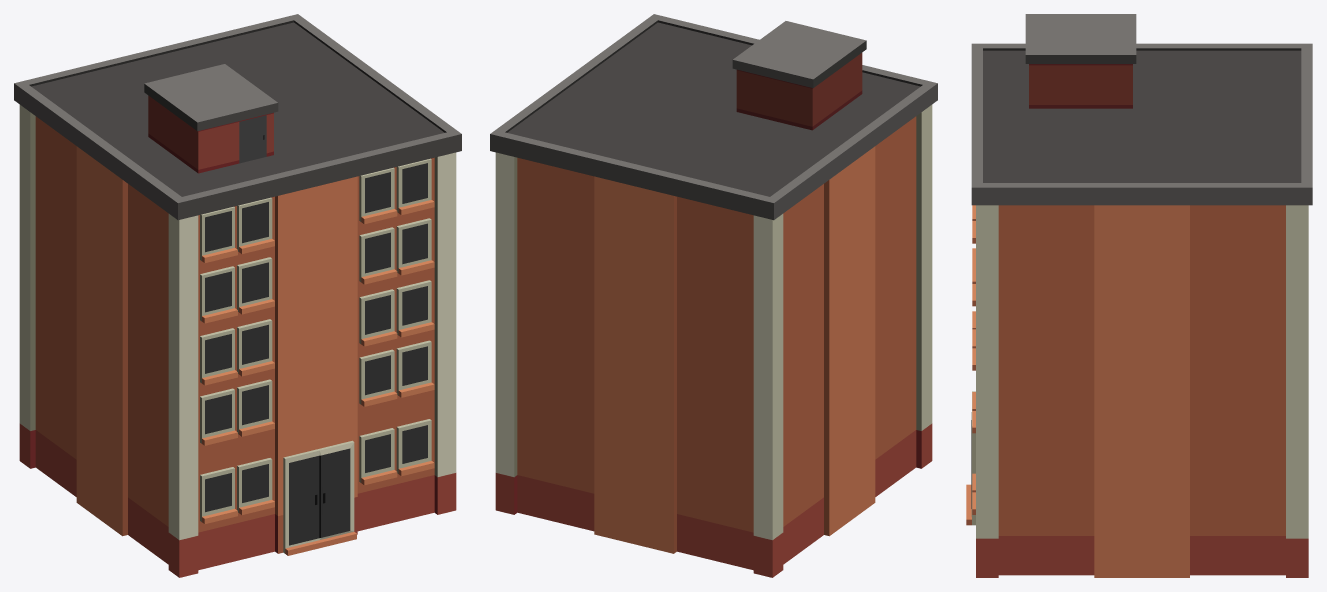
The model's file is big1.obj.
The picture shows the model from 3 angles, left to right: view 1: azimuth 30°, elevation 25°; view 2: azimuth 150°, elevation 25°; view 3: azimuth 270°, elevation 25°; orthographic projection. The views are drawn at different scales.
Parts seen in each view (by area): view 1: ST_Building_Apartment_Large_Untitled.005; view 2: ST_Building_Apartment_Large_Untitled.005; view 3: ST_Building_Apartment_Large_Untitled.005.
Boxes of the visible parts, x1,y1,x2,y2 form: ST_Building_Apartment_Large_Untitled.005: [14, 14, 461, 577]; ST_Building_Apartment_Large_Untitled.005: [490, 14, 937, 577]; ST_Building_Apartment_Large_Untitled.005: [966, 14, 1312, 577].
Bounding box in the file's own units: 11.63 × 16.75 × 11.82.
